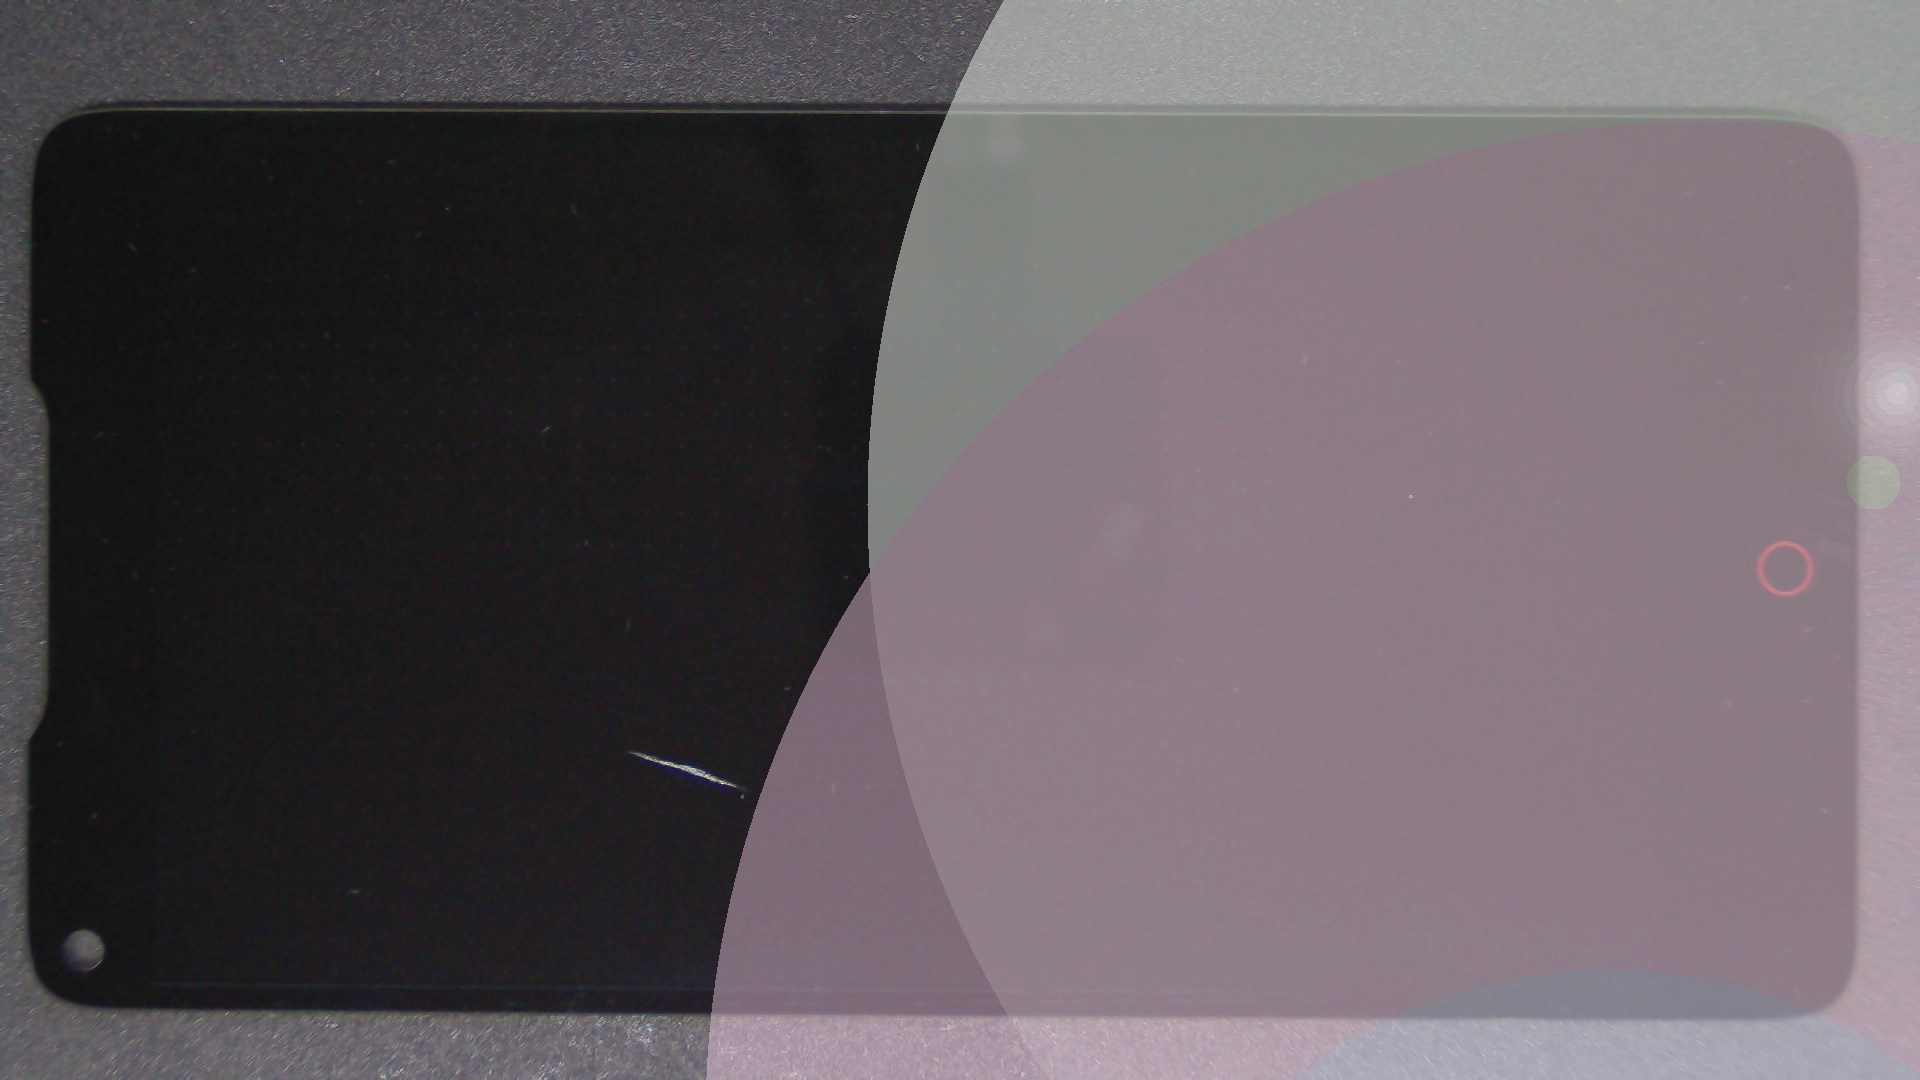oil: (313, 375, 939, 1080)
